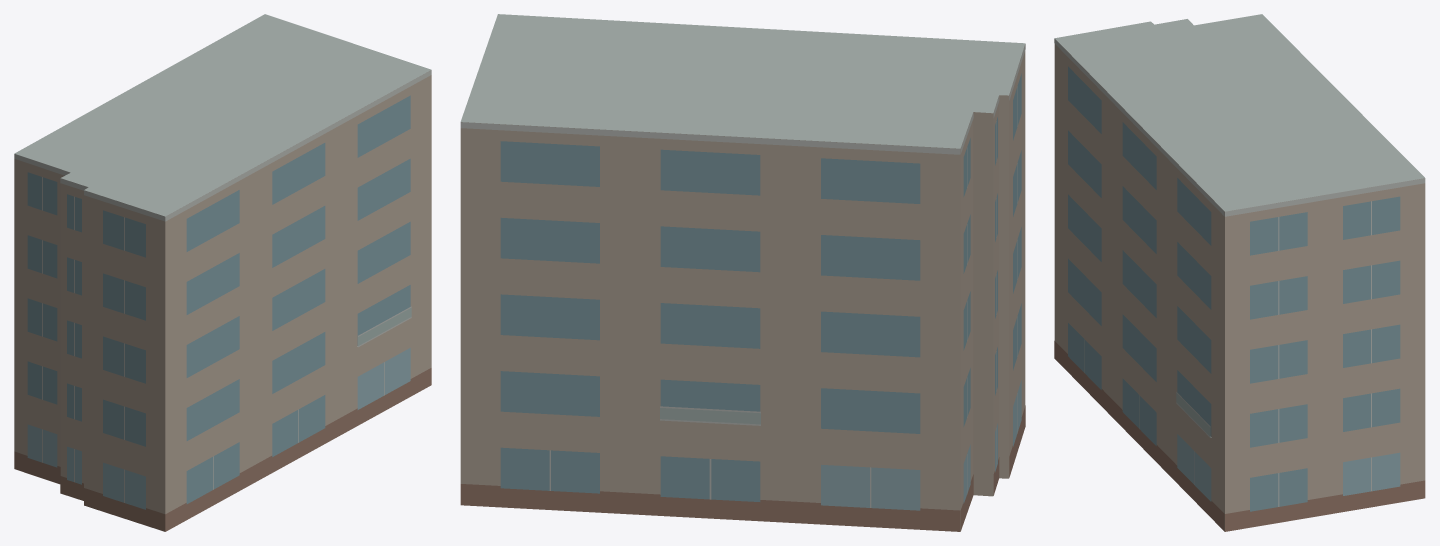
File: survey-upis-32905828.glb
3 views of the same model, side by side, from view 1: azimuth 30°, elevation 25°; view 2: azimuth 150°, elevation 25°; view 3: azimuth 270°, elevation 25° (orthographic). The views are drawn at different scales.
Visible parts, largest first — view 1: survey-upis-32905828.tmp; view 2: survey-upis-32905828.tmp; view 3: survey-upis-32905828.tmp.
Part boxes in pixels (x1,y1,x2,y2): survey-upis-32905828.tmp: (14,14,431,531); survey-upis-32905828.tmp: (460,14,1025,531); survey-upis-32905828.tmp: (1054,14,1425,531).
Size of the model in its own units: 20.21 by 15.25 by 16.02.
